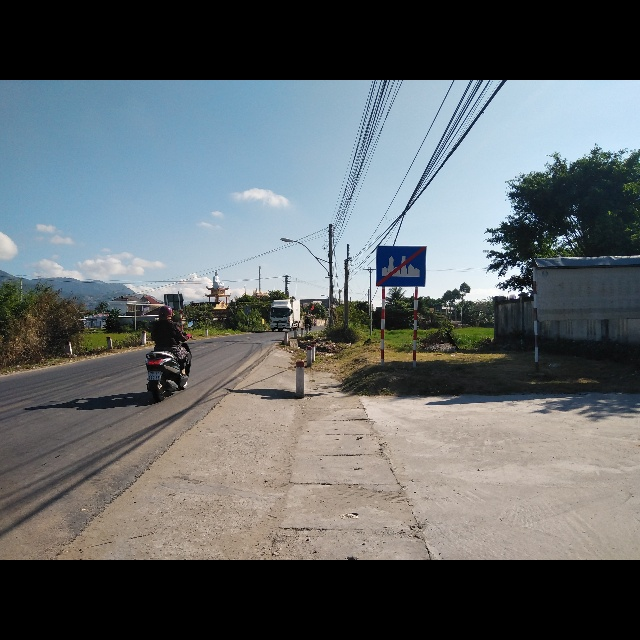Hết khu đông dân cư: (374, 245, 428, 288)
